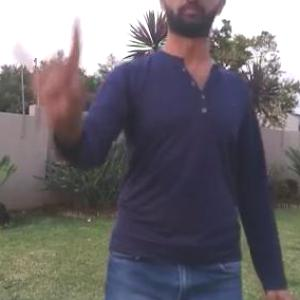takeoff-hand: (11, 8, 95, 130)
